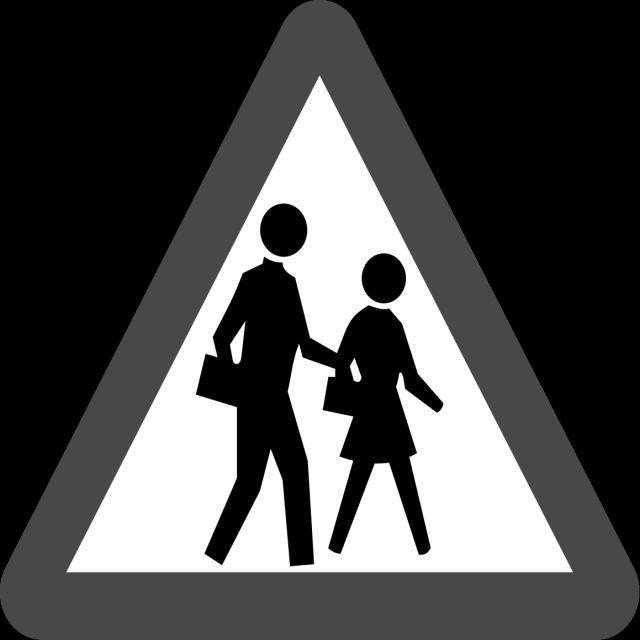school ahead: (23, 23, 618, 621)
